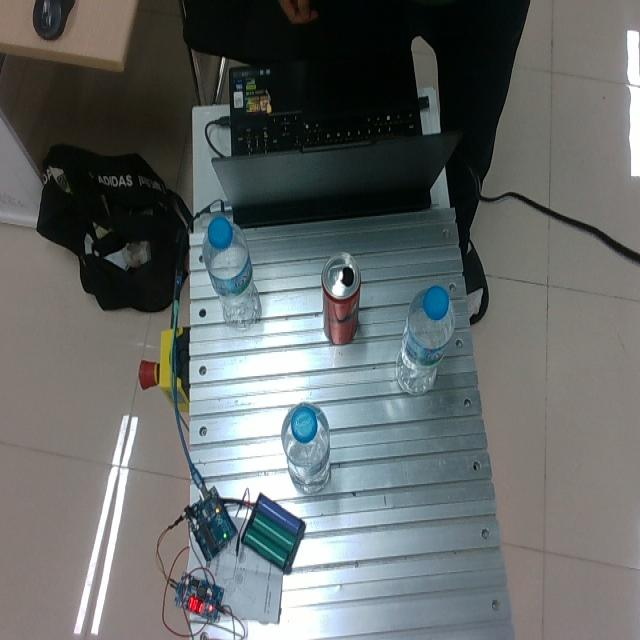coca: (321, 252, 361, 344)
lavie: (393, 286, 454, 394), (203, 218, 260, 330), (281, 403, 330, 493)
